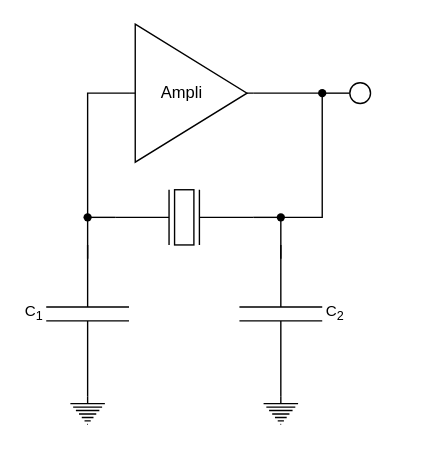
This 424x449 diagram has some shape labels left out. Each missing label, with the centre of its shape:
V sor: point 359,92
XTAL: point 183,216
